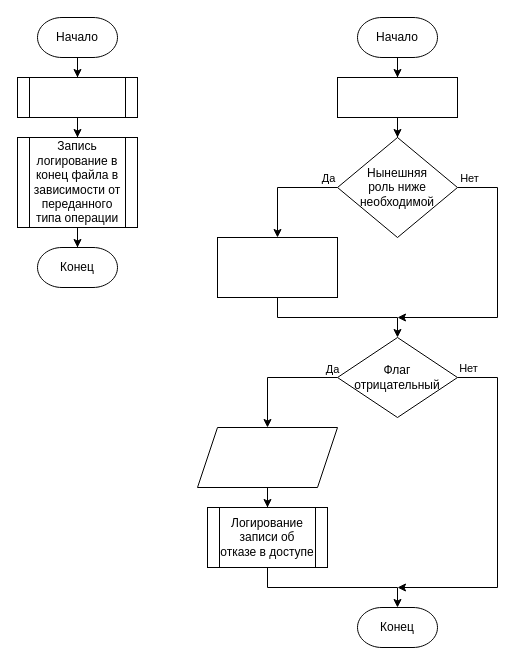
Some shapes in this 523 by 665 pixel diagram are drawn without their labels. Each missing label, with the centre of its shape:
Изменение флага-результата на отрицательный: the point at 277,267
Отказано в доступе: the point at 267,457
Получение времени записи: the point at 77,97
Создание флага-результата: the point at 397,97
